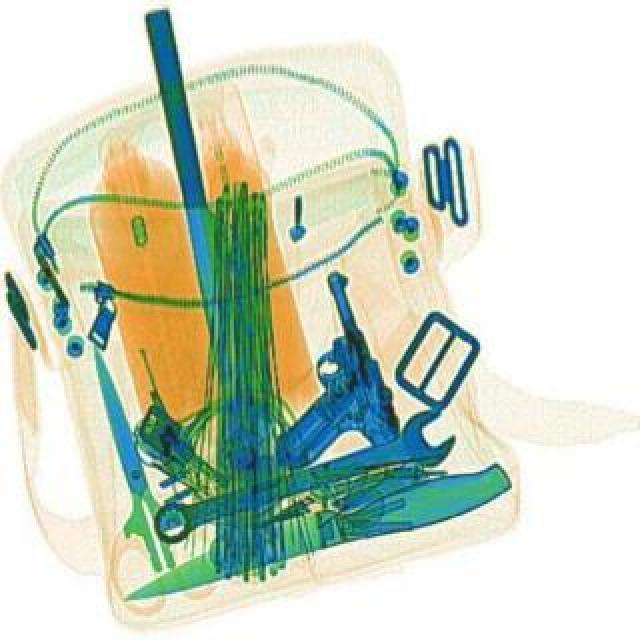gun: (220, 264, 408, 474)
knife: (116, 448, 516, 616), (136, 4, 278, 448), (64, 340, 192, 574)
scissors: (142, 400, 464, 550)
